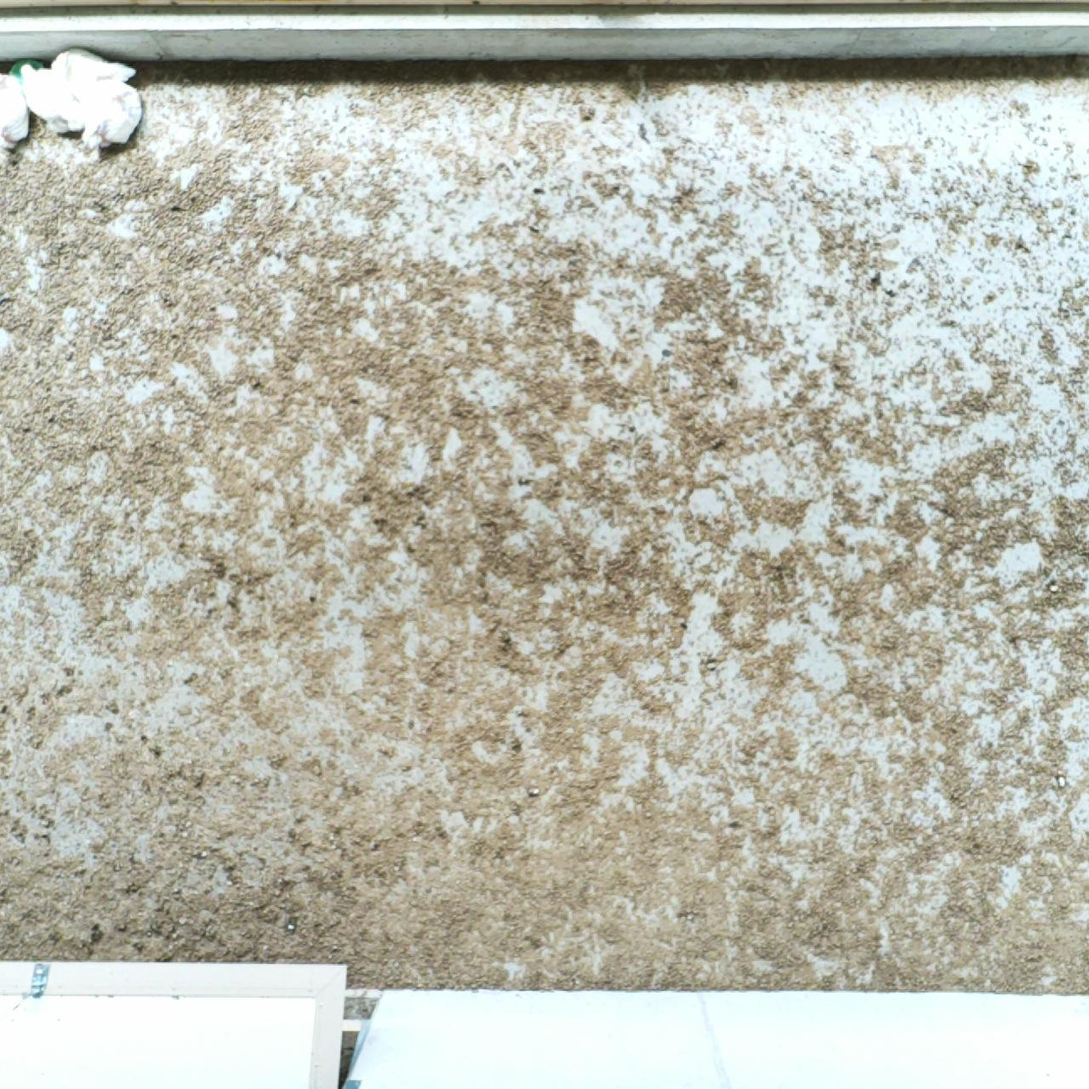chicken: (75, 76, 148, 154), (19, 61, 91, 134), (48, 39, 139, 92), (0, 64, 33, 157)
